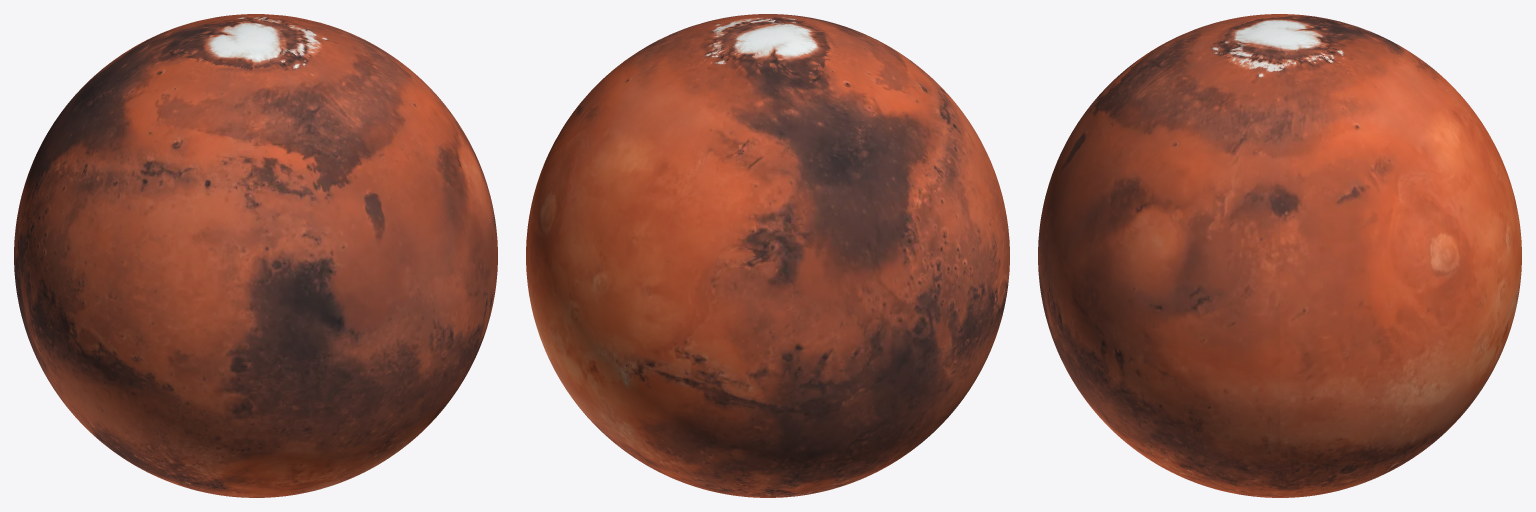
The model's file is mars.glb.
The picture shows the model from 3 angles, left to right: view 1: azimuth 30°, elevation 25°; view 2: azimuth 150°, elevation 25°; view 3: azimuth 270°, elevation 25°; orthographic projection.
Parts seen in each view (by area): view 1: Object_2; view 2: Object_2; view 3: Object_2.
Part boxes in pixels (x1=…): Object_2: x1=14, y1=14, x2=497, y2=497; Object_2: x1=526, y1=14, x2=1009, y2=497; Object_2: x1=1038, y1=14, x2=1521, y2=497.
Bounding box in the file's own units: 200 × 200 × 200.
Materials: 1 (1 with a texture image).
